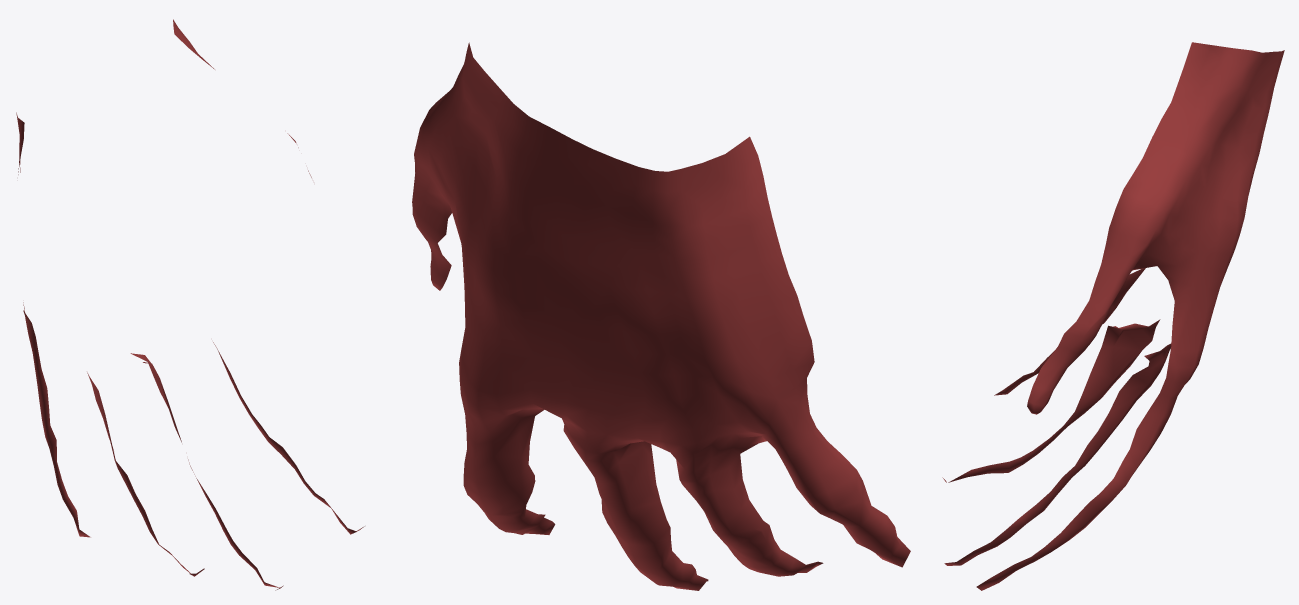
Rendered from dorsal-fascia-of-hand-l.glb.
The picture shows the model from 3 angles, left to right: view 1: azimuth 30°, elevation 25°; view 2: azimuth 150°, elevation 25°; view 3: azimuth 270°, elevation 25°; orthographic projection. The views are drawn at different scales.
Visible parts, largest first — view 1: Dorsal fascia of hand.l; view 2: Dorsal fascia of hand.l; view 3: Dorsal fascia of hand.l.
Boxes of the visible parts, <box> form: Dorsal fascia of hand.l: <box>16,19,364,590</box>; Dorsal fascia of hand.l: <box>412,42,910,590</box>; Dorsal fascia of hand.l: <box>942,42,1284,590</box>.
Size of the model in its own units: 0.1102 by 0.1566 by 0.0929.
